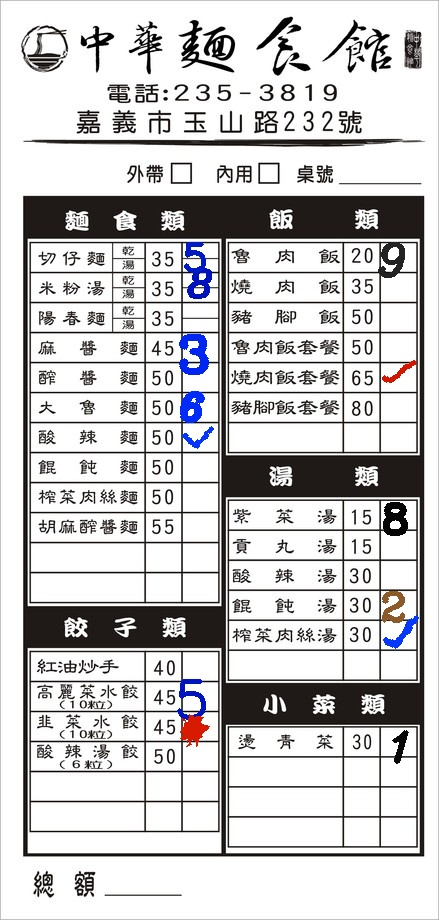marked_circle: (181, 711, 217, 740)
marked_number_1: (380, 726, 416, 755)
marked_number_2: (380, 589, 416, 618)
marked_number_3: (182, 332, 218, 361)
marked_number_5: (181, 681, 217, 710), (183, 244, 217, 257)
marked_number_6: (181, 392, 217, 421)
marked_number_8: (381, 500, 417, 529), (183, 273, 217, 286)
marked_number_9: (381, 242, 417, 271)
marked_tick: (380, 619, 416, 648), (381, 360, 417, 389), (181, 424, 217, 453)
